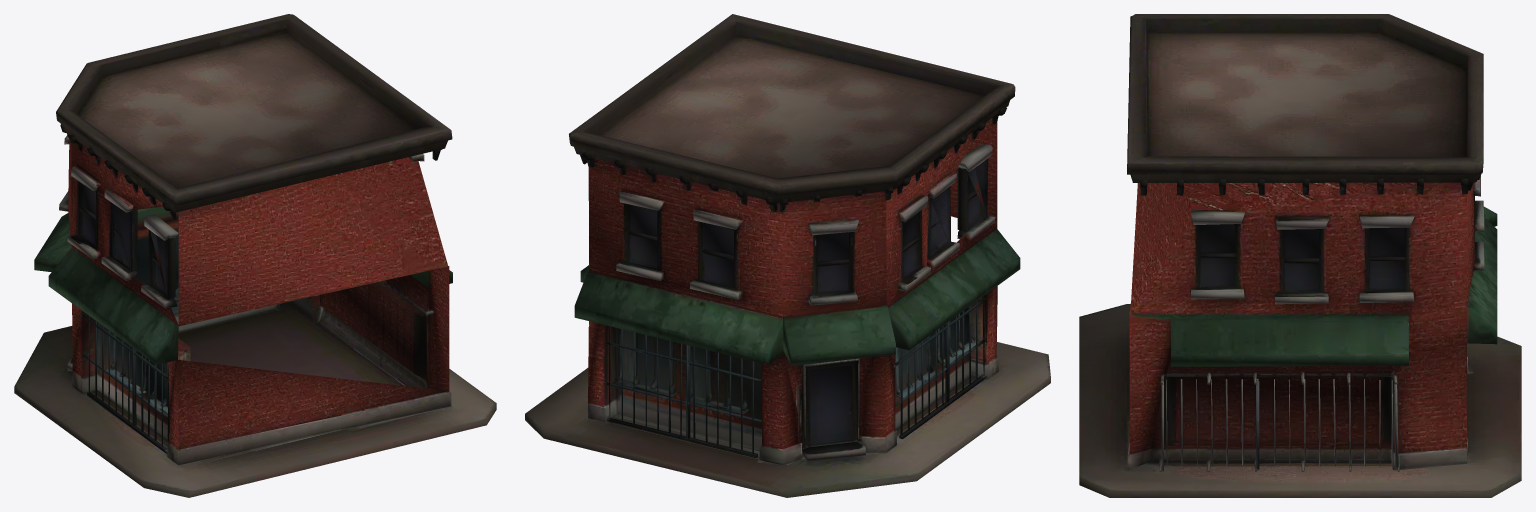
File: corner_store.glb
The picture shows the model from 3 angles, left to right: view 1: azimuth 30°, elevation 25°; view 2: azimuth 150°, elevation 25°; view 3: azimuth 270°, elevation 25°; orthographic projection. The views are drawn at different scales.
Visible parts, largest first — view 1: corner_store; view 2: corner_store; view 3: corner_store.
Boxes of the visible parts, left/top/right/bottom form: corner_store: left=14, top=14, right=496, bottom=497; corner_store: left=525, top=14, right=1050, bottom=497; corner_store: left=1079, top=14, right=1521, bottom=497.
Size of the model in its own units: 6.37 by 5 by 6.37.
1 material, 1 textured.
